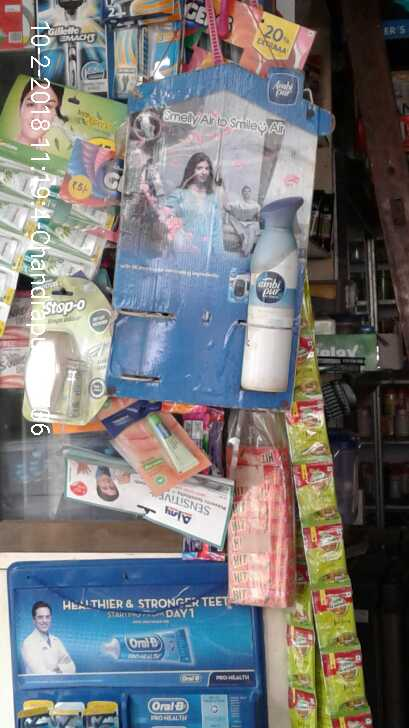home: (243, 201, 305, 394)
